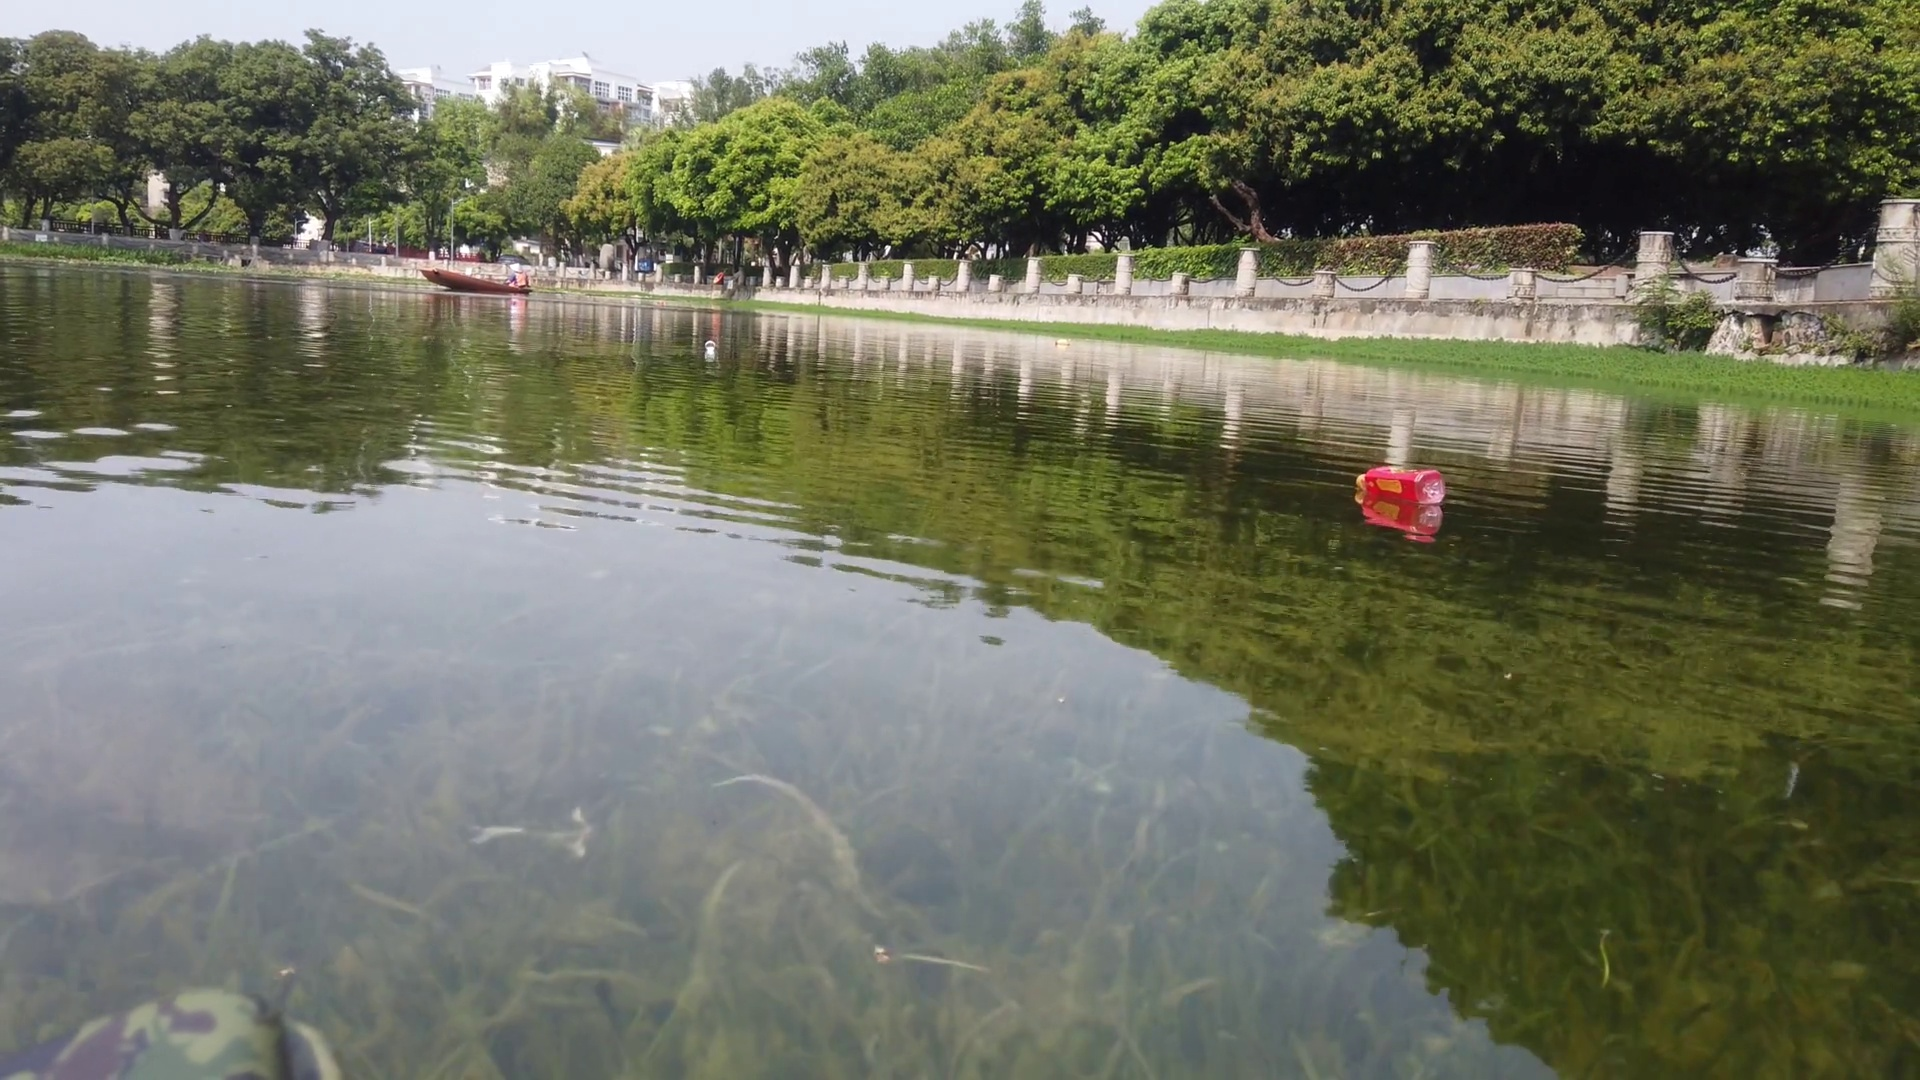bottle: (1352, 464, 1447, 506), (1055, 334, 1072, 345), (704, 339, 715, 349)
